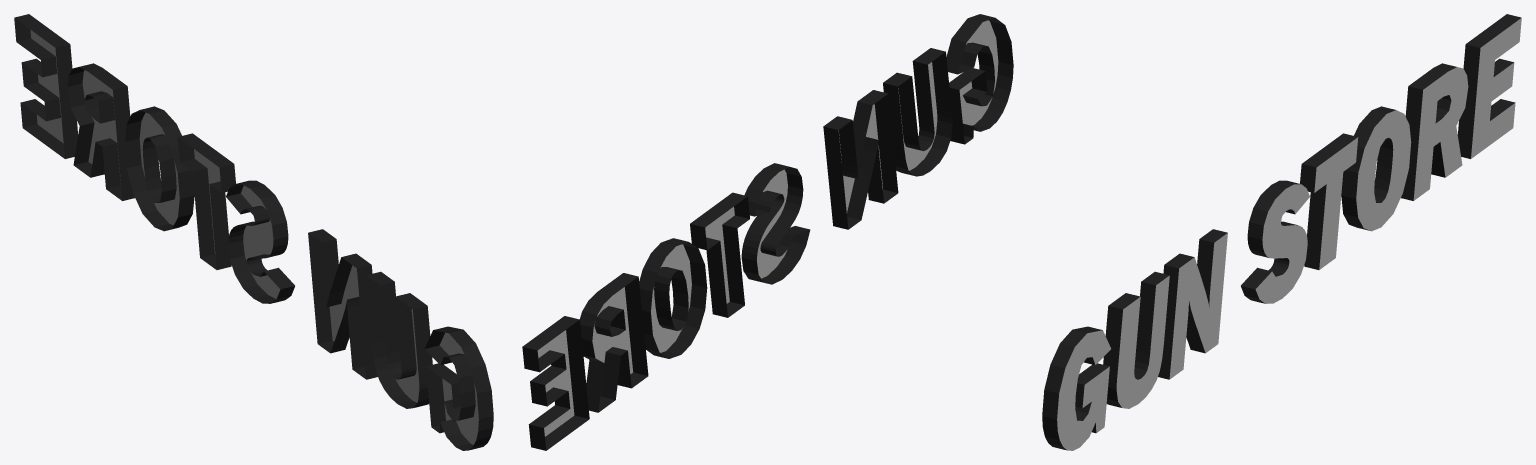
The model's file is SM_billboard_GunsAmmo.gltf.
3 renders of one model, left to right at view 1: azimuth 30°, elevation 25°; view 2: azimuth 150°, elevation 25°; view 3: azimuth 330°, elevation 25°, orthographic. The views are drawn at different scales.
Visible parts, largest first — view 1: SM_billboard_GunsAmmo; view 2: SM_billboard_GunsAmmo; view 3: SM_billboard_GunsAmmo.
Boxes of the visible parts, <box> form: SM_billboard_GunsAmmo: <box>14,14,493,450</box>; SM_billboard_GunsAmmo: <box>522,14,1013,450</box>; SM_billboard_GunsAmmo: <box>1042,14,1521,450</box>.
Bounding box in the file's own units: 0.1 × 0.7026 × 5.4.
Materials: 1 (1 with a texture image).
